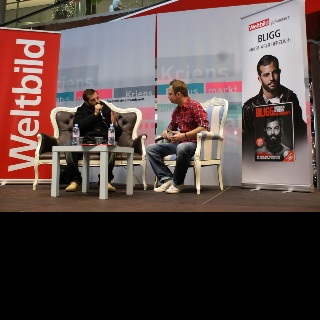without_mask: (259, 59, 279, 91), (265, 121, 280, 146), (167, 85, 177, 104)
